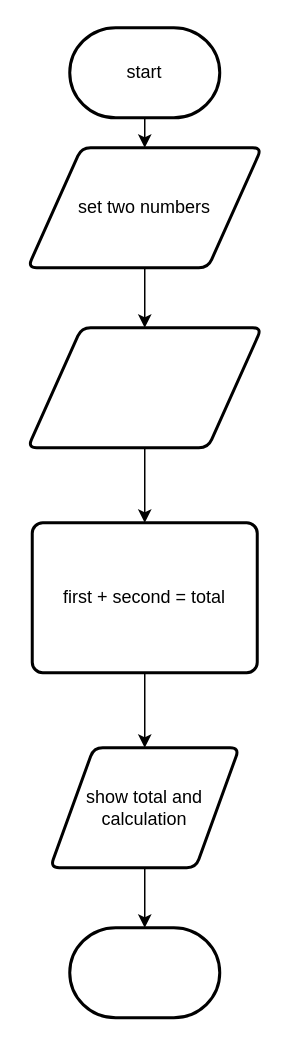
This 288x1044 diagram has some shape labels left out. The shapes that lost their labels are listed below. From the top down, each one's centre as x and y in pixels, then its label:
(x=144, y=387): get number 2
(x=144, y=972): end
